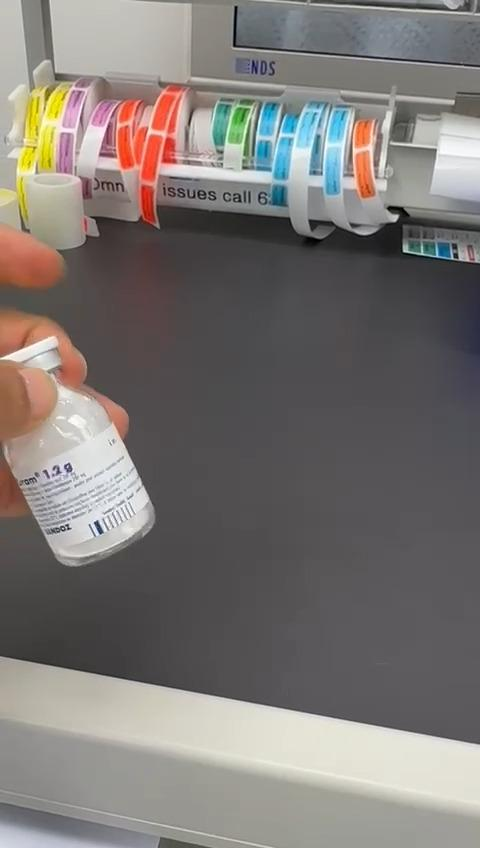augmentin: (3, 338, 154, 566)
